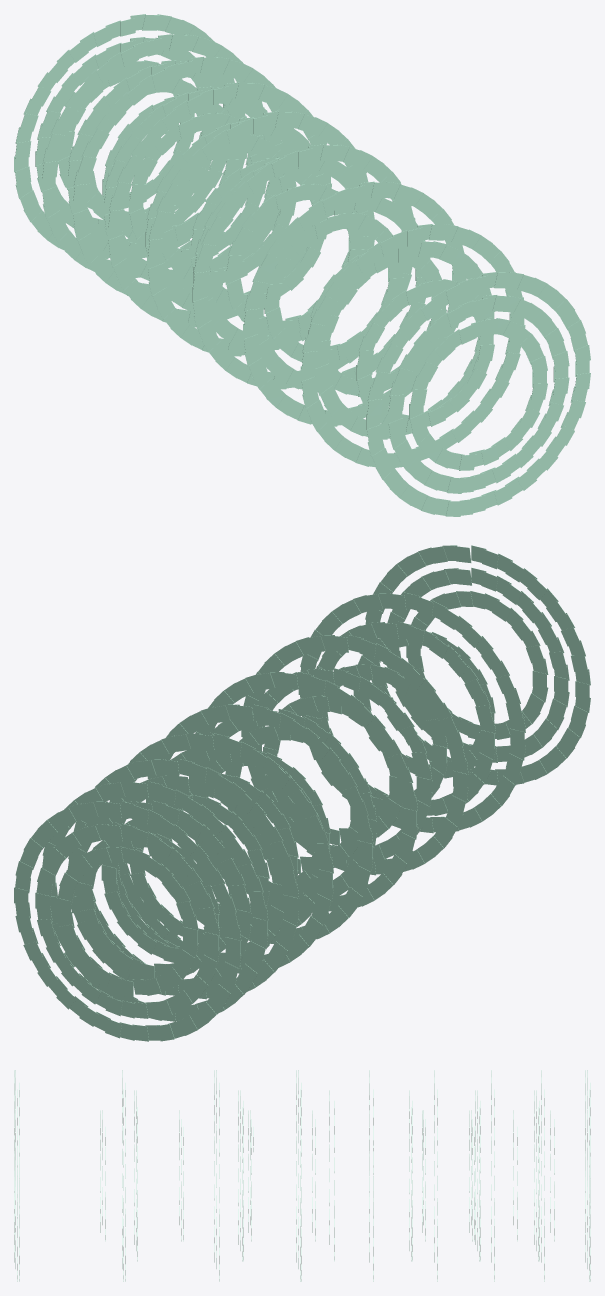
File: ITK-Pixel-Layout-Outer-Endcap-SideA.glb
3 renders of one model, top to bottom at view 1: azimuth 30°, elevation 25°; view 2: azimuth 150°, elevation 25°; view 3: azimuth 270°, elevation 25°, orthographic. The views are drawn at different scales.
Visible parts, largest first — view 1: ITK_Pixel_Layout_Outer_Endcap_SideA; view 2: ITK_Pixel_Layout_Outer_Endcap_SideA; view 3: ITK_Pixel_Layout_Outer_Endcap_SideA.
Boxes of the visible parts, bbox=[...] form: ITK_Pixel_Layout_Outer_Endcap_SideA: bbox=[14, 14, 590, 516]; ITK_Pixel_Layout_Outer_Endcap_SideA: bbox=[14, 545, 590, 1041]; ITK_Pixel_Layout_Outer_Endcap_SideA: bbox=[14, 1070, 590, 1281].
Size of the model in its own units: 0.6311 by 0.6311 by 1.72.
